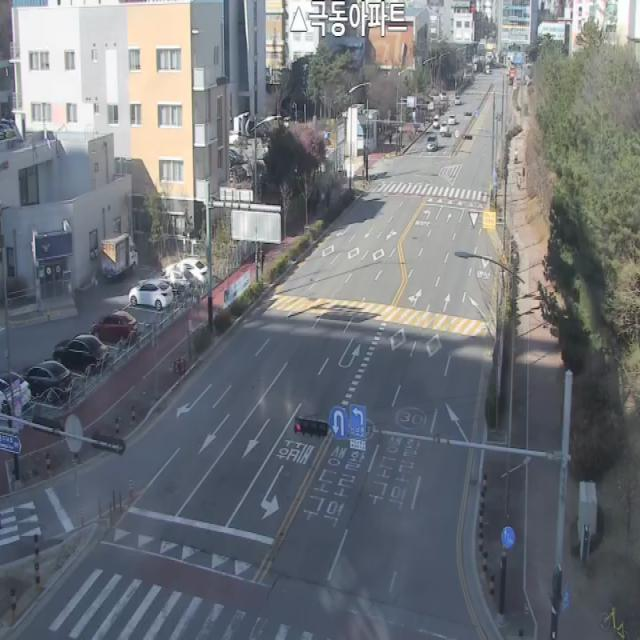Car: (53, 333, 108, 375), (159, 252, 210, 294), (21, 359, 71, 399), (100, 232, 138, 284), (91, 309, 137, 344), (129, 277, 173, 310), (0, 371, 31, 414), (427, 134, 438, 152), (440, 120, 449, 136), (432, 114, 440, 129), (449, 114, 456, 125), (455, 95, 461, 105)
